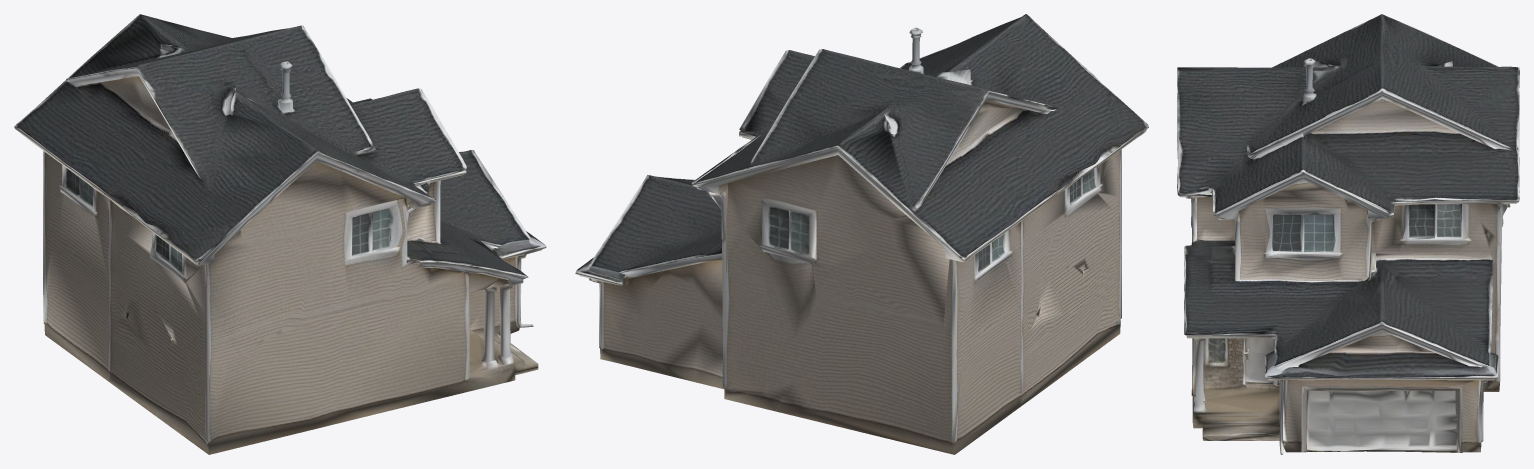
Rendered from lod_house_2storey.glb.
3 renders of one model, left to right at view 1: azimuth 30°, elevation 25°; view 2: azimuth 150°, elevation 25°; view 3: azimuth 270°, elevation 25°, orthographic. The views are drawn at different scales.
Parts seen in each view (by area): view 1: tripo_node_f47b259d-fde3-45ae-8aa0-d0ce4da10241; view 2: tripo_node_f47b259d-fde3-45ae-8aa0-d0ce4da10241; view 3: tripo_node_f47b259d-fde3-45ae-8aa0-d0ce4da10241.
Part boxes in pixels (left/top/right/bottom): tripo_node_f47b259d-fde3-45ae-8aa0-d0ce4da10241: left=14, top=14, right=546, bottom=454; tripo_node_f47b259d-fde3-45ae-8aa0-d0ce4da10241: left=575, top=14, right=1148, bottom=454; tripo_node_f47b259d-fde3-45ae-8aa0-d0ce4da10241: left=1177, top=14, right=1519, bottom=454.
Size of the model in its own units: 0.9998 by 0.7514 by 0.7984.
1 material, 1 textured.
